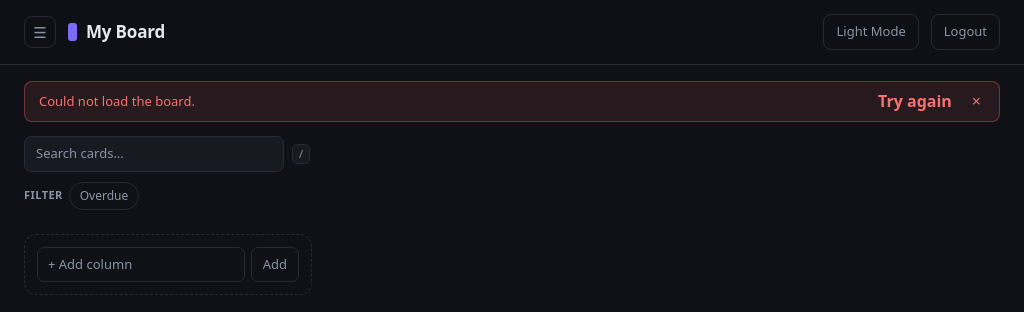
it: board errors › can dismiss the banner
Check: the message "Could not load the board. Try again ×" is shown, box [24,80,1000,122]
Click the button named "Dismiss error" at coordinates (976, 101), box [968,93,985,109]
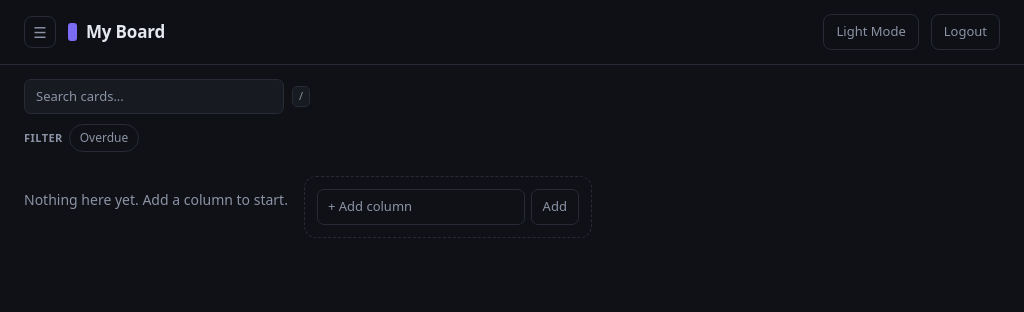
Check: the message "Could not load the board. Try again ×" is gone
